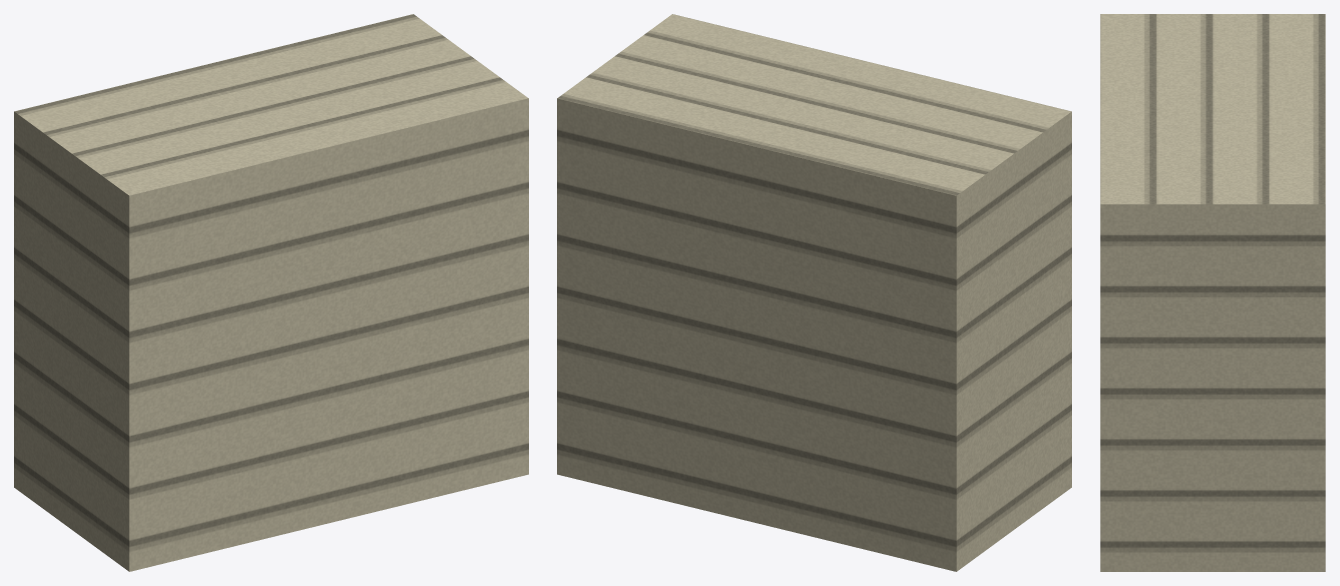
Rendered from dresser.glb.
3 renders of one model, left to right at view 1: azimuth 30°, elevation 25°; view 2: azimuth 150°, elevation 25°; view 3: azimuth 270°, elevation 25°, orthographic. The views are drawn at different scales.
Visible parts, largest first — view 1: dresser-col; view 2: dresser-col; view 3: dresser-col.
Part boxes in pixels (<box>): dresser-col: <box>14,14,528,571</box>; dresser-col: <box>557,14,1071,571</box>; dresser-col: <box>1100,14,1325,571</box>.
Bounding box in the file's own units: 1 × 0.9 × 0.5.
1 material, 1 textured.
